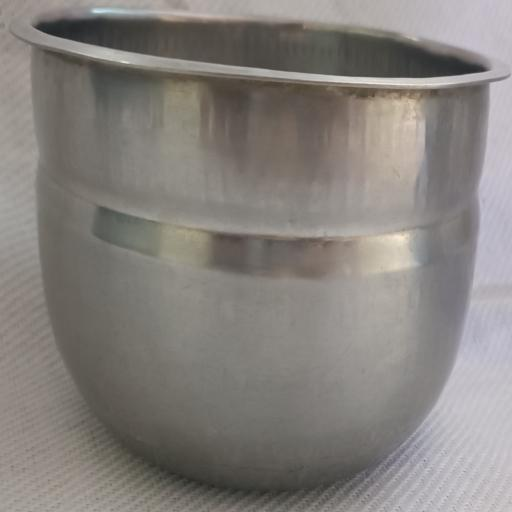vessel: (11, 9, 508, 489)
